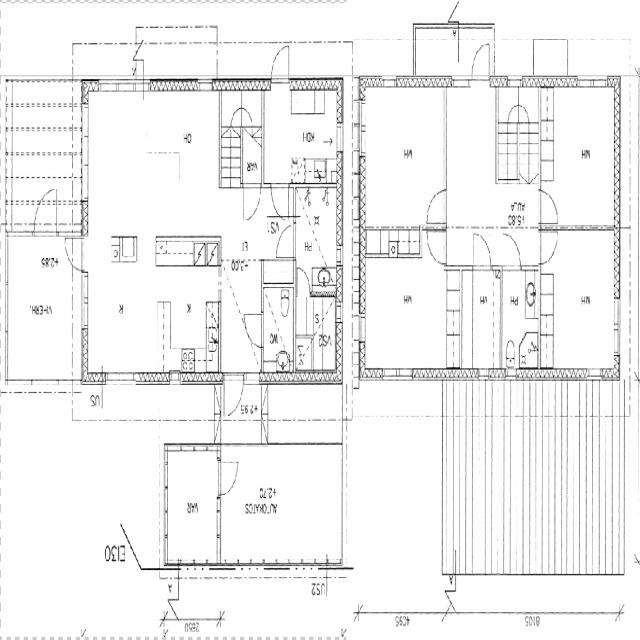door: (34, 186, 58, 235), (470, 228, 494, 275), (222, 371, 245, 420), (424, 184, 448, 229), (470, 37, 492, 84), (537, 185, 561, 228), (270, 42, 292, 87), (501, 229, 523, 274), (217, 455, 240, 497), (425, 226, 448, 267), (537, 226, 560, 266), (241, 180, 262, 223), (243, 308, 264, 351), (274, 221, 296, 262), (269, 180, 290, 220), (64, 235, 85, 270), (224, 98, 244, 128), (295, 265, 311, 295), (233, 104, 251, 128), (506, 100, 521, 126), (516, 101, 532, 125), (230, 106, 242, 130)
window: (612, 291, 624, 362), (356, 96, 367, 162), (574, 72, 610, 91), (104, 369, 138, 388), (99, 74, 137, 91), (81, 270, 91, 334), (382, 366, 414, 384), (214, 495, 223, 551), (356, 306, 366, 345), (380, 72, 400, 91), (451, 73, 471, 90), (337, 118, 345, 156), (196, 77, 214, 92), (508, 75, 524, 88), (338, 241, 343, 266)
zone: (358, 229, 452, 377), (439, 83, 522, 236), (359, 85, 446, 229), (538, 81, 620, 232), (539, 226, 619, 378), (5, 230, 83, 384), (2, 77, 87, 211), (86, 240, 160, 378), (156, 250, 220, 376), (263, 88, 341, 184), (164, 446, 220, 566), (147, 89, 220, 175), (294, 185, 342, 288), (458, 266, 502, 374), (500, 267, 541, 373), (262, 273, 294, 376), (310, 292, 337, 374), (242, 126, 263, 186), (220, 93, 252, 127), (518, 87, 540, 125), (240, 92, 262, 128)
